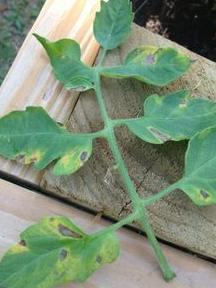Tomato Early blight leaf: (0, 215, 118, 288), (0, 110, 96, 176), (122, 89, 216, 145), (28, 24, 96, 96), (106, 47, 201, 86)
Tomato leaf: (89, 0, 136, 50)
